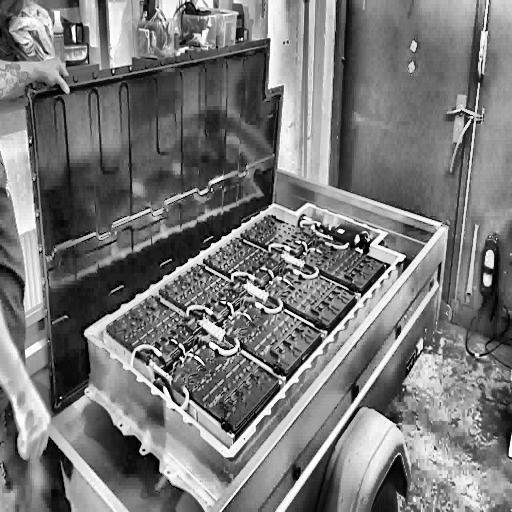b_casing: (18, 30, 282, 401)
high_volt_cable: (128, 339, 189, 416), (183, 292, 243, 364), (231, 270, 284, 326), (298, 214, 351, 262), (268, 236, 321, 283)
